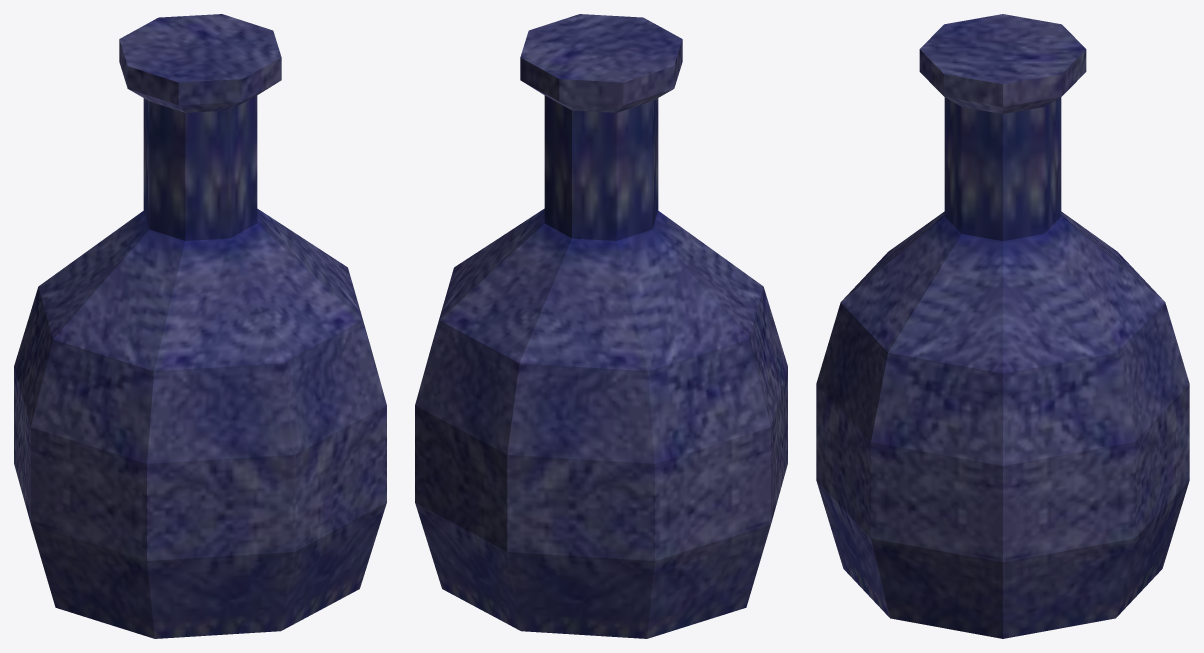
The model's file is GS_SOK_BEZ_01_SZCZAWIK.glb.
3 views of the same model, side by side, from view 1: azimuth 30°, elevation 25°; view 2: azimuth 150°, elevation 25°; view 3: azimuth 270°, elevation 25° (orthographic).
Parts seen in each view (by area): view 1: GS_SOK_BEZ_01_SZCZAWIK; view 2: GS_SOK_BEZ_01_SZCZAWIK; view 3: GS_SOK_BEZ_01_SZCZAWIK.
Part boxes in pixels (x1,y1,x2,y2): GS_SOK_BEZ_01_SZCZAWIK: (14, 14, 386, 638); GS_SOK_BEZ_01_SZCZAWIK: (415, 14, 787, 638); GS_SOK_BEZ_01_SZCZAWIK: (816, 14, 1189, 638).
Bounding box in the file's own units: 0.1911 × 0.2822 × 0.1838.
1 material, 1 textured.
